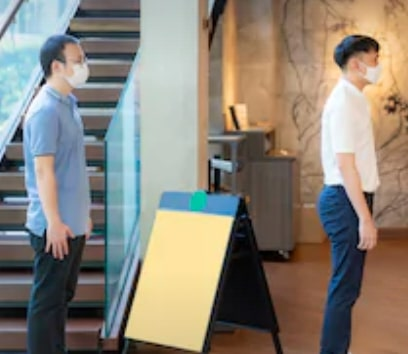Caution: (23, 33, 383, 354)
